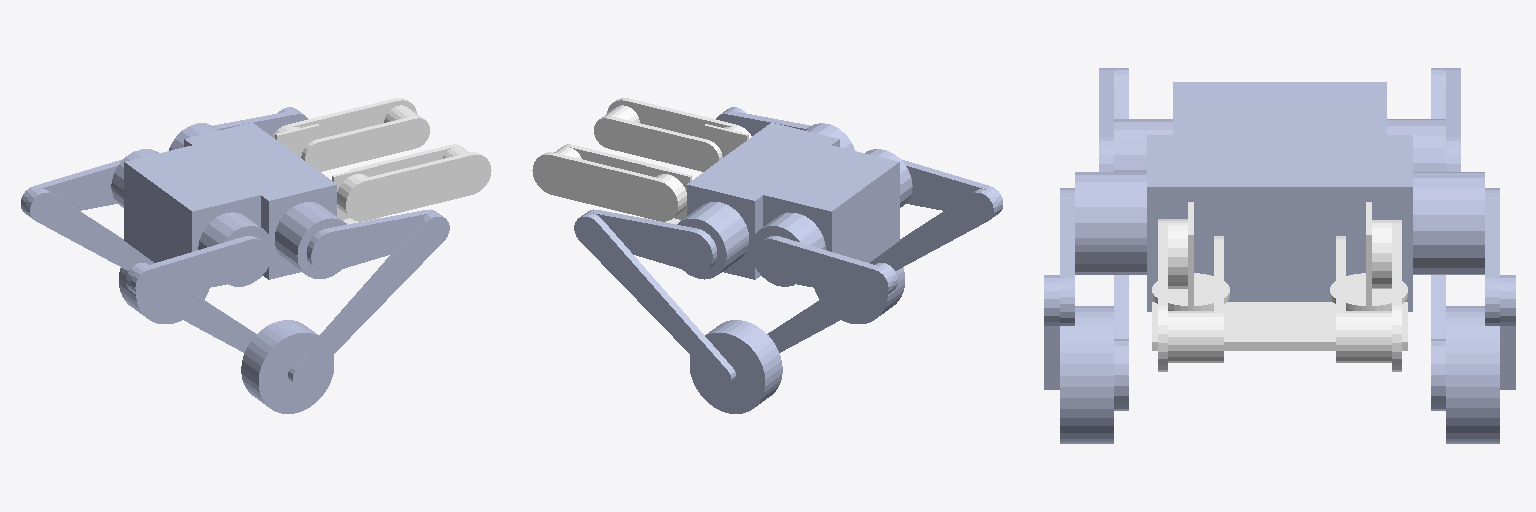
--- What the picture shows (computed from the rendered views, not written in the file) ---
Views: 3 orthographic renders of the robot side by side, from view 1: azimuth 30°, elevation 25°; view 2: azimuth 150°, elevation 25°; view 3: azimuth 270°, elevation 25°.
Robot: Manipulator_Vlink — 20 links, 19 joints (18 continuous, 1 fixed); root link base_link; default pose: all joints at 0.
Links seen in each view (by area): view 1: base_link, r1, thigh2leg_rf, leg2wheel_rf, hip2thigh_rb, l2, hip2thigh_rf, thigh2leg_lb, thigh2leg_rb, hip2thigh_lb, l1, r2 (+3 smaller); view 2: base_link, l1, thigh2leg_lf, hip2thigh_lb, leg2wheel_lf, r2, hip2thigh_lf, thigh2leg_rb, thigh2leg_lb, hip2thigh_rb, r1, l2 (+4 smaller); view 3: base_link, leg2wheel_rf, armbase, leg2wheel_lf, r2, l2, r1, l1, thigh2leg_lb, thigh2leg_rb, hip2thigh_lf, hip2thigh_rf (+7 smaller).
Link boxes in pixels (x1,y1,x2,y2): base_link: (111,123,346,286); r1: (337,152,491,221); thigh2leg_rf: (288,213,449,385); leg2wheel_rf: (241,320,333,413); hip2thigh_rb: (131,236,268,298); l2: (301,105,429,171); hip2thigh_rf: (307,209,438,272); thigh2leg_lb: (25,189,196,293); thigh2leg_rb: (126,263,256,352); hip2thigh_lb: (21,159,122,214); l1: (272,98,416,138); r2: (350,144,469,174); base_link: (677,123,912,286); l1: (532,152,686,221); thigh2leg_lf: (574,213,735,385); hip2thigh_lb: (755,236,892,298); leg2wheel_lf: (690,320,782,413); r2: (594,105,722,171); hip2thigh_lf: (585,209,716,272); thigh2leg_rb: (827,189,998,293); thigh2leg_lb: (767,263,897,352); hip2thigh_rb: (901,159,1002,214); r1: (607,98,751,138); l2: (554,144,673,174); base_link: (1075,82,1484,311); leg2wheel_rf: (1060,306,1113,443); armbase: (1152,302,1407,350); leg2wheel_lf: (1446,306,1499,443); r2: (1168,236,1223,362); l2: (1336,236,1391,362); r1: (1158,219,1187,371); l1: (1372,220,1401,371); thigh2leg_lb: (1431,68,1445,410); thigh2leg_rb: (1114,68,1128,410); hip2thigh_lf: (1485,188,1499,325); hip2thigh_rf: (1060,188,1074,325).
Bounding box of the posed robot: 0.5218 × 0.36 × 0.2553 m (x, y, z).
Meshes: 20 distinct files referenced, 20 mesh visuals loaded (20 binary STL).

The robot description file, URDF, robot "Manipulator_Vlink":
<?xml version="1.0" encoding="utf-8"?>
<!-- This URDF was automatically created by SolidWorks to URDF Exporter! Originally created by Stephen Brawner ([email redacted]) 
     Commit Version: 1.6.0-1-g15f4949  Build Version: 1.6.7594.29634
     For more information, please see http://wiki.ros.org/sw_urdf_exporter -->
<robot
  name="Manipulator_Vlink">
  <link
    name="base_link">
    <inertial>
      <origin
        xyz="5.81517935860494E-18 3.64890254428675E-18 -2.18069225947685E-18"
        rpy="0 0 0" />
      <mass
        value="4.563502045004" />
      <inertia
        ixx="0.0280984473320404"
        ixy="7.96797717061421E-17"
        ixz="1.04038741340493E-20"
        iyy="0.0169477927066625"
        iyz="1.08880015646914E-18"
        izz="0.0376783082336192" />
    </inertial>
    <visual>
      <origin
        xyz="0 0 0"
        rpy="0 0 0" />
      <geometry>
        <mesh
          filename="package://Manipulator_Vlink/meshes/base_link.STL" />
      </geometry>
      <material
        name="">
        <color
          rgba="0.792156862745098 0.819607843137255 0.933333333333333 1" />
      </material>
    </visual>
    <collision>
      <origin
        xyz="0 0 0"
        rpy="0 0 0" />
      <geometry>
        <mesh
          filename="package://Manipulator_Vlink/meshes/base_link.STL" />
      </geometry>
    </collision>
  </link>
  <link
    name="hip2thigh_lf">
    <inertial>
      <origin
        xyz="6.24976908737392E-18 -0.0614074661588189 -0.00575000000000156"
        rpy="0 0 0" />
      <mass
        value="0.0599999613849593" />
      <inertia
        ixx="0.000155906508351339"
        ixy="2.94476214864048E-21"
        ixz="-9.35046804636312E-21"
        iyy="1.13512134874171E-05"
        iyz="-7.895302478684E-19"
        izz="0.000165935222689896" />
    </inertial>
    <visual>
      <origin
        xyz="0 0 0"
        rpy="0 0 0" />
      <geometry>
        <mesh
          filename="package://Manipulator_Vlink/meshes/hip2thigh_lf.STL" />
      </geometry>
      <material
        name="">
        <color
          rgba="0.792156862745098 0.819607843137255 0.933333333333333 1" />
      </material>
    </visual>
    <collision>
      <origin
        xyz="0 0 0"
        rpy="0 0 0" />
      <geometry>
        <mesh
          filename="package://Manipulator_Vlink/meshes/hip2thigh_lf.STL" />
      </geometry>
    </collision>
  </link>
  <joint
    name="hip_lf"
    type="continuous">
    <origin
      xyz="0.0424247110394242 0.156999999999999 0"
      rpy="1.5707963267949 -1.5707963267949 0" />
    <parent
      link="base_link" />
    <child
      link="hip2thigh_lf" />
    <axis
      xyz="0 0 1" />
  </joint>
  <link
    name="thigh2leg_lf">
    <inertial>
      <origin
        xyz="0 -0.10564758516642 -0.00575000000000064"
        rpy="0 0 0" />
      <mass
        value="0.0763000411167859" />
      <inertia
        ixx="0.000437218386664755"
        ixy="1.6940658945086E-21"
        ixz="1.95072209959967E-20"
        iyy="7.44363321133753E-06"
        iyz="1.46010727006436E-18"
        izz="0.000442980239803143" />
    </inertial>
    <visual>
      <origin
        xyz="0 0 0"
        rpy="0 0 0" />
      <geometry>
        <mesh
          filename="package://Manipulator_Vlink/meshes/thigh2leg_lf.STL" />
      </geometry>
      <material
        name="">
        <color
          rgba="0.792156862745098 0.819607843137255 0.933333333333333 1" />
      </material>
    </visual>
    <collision>
      <origin
        xyz="0 0 0"
        rpy="0 0 0" />
      <geometry>
        <mesh
          filename="package://Manipulator_Vlink/meshes/thigh2leg_lf.STL" />
      </geometry>
    </collision>
  </link>
  <joint
    name="knee_lf"
    type="continuous">
    <origin
      xyz="0 -0.14 -0.011500000000001"
      rpy="0 0 -2.46746214692248" />
    <parent
      link="hip2thigh_lf" />
    <child
      link="thigh2leg_lf" />
    <axis
      xyz="0 0 1" />
  </joint>
  <link
    name="leg2wheel_lf">
    <inertial>
      <origin
        xyz="6.41847686111419E-17 -8.32667268468867E-17 0.0207499999999986"
        rpy="0 0 0" />
      <mass
        value="0.521949966745835" />
      <inertia
        ixx="0.000441450058332931"
        ixy="-1.6940658945086E-21"
        ixz="2.07466425242616E-18"
        iyy="0.000441450058332931"
        iyz="-3.38231691806901E-20"
        izz="0.000733078728294525" />
    </inertial>
    <visual>
      <origin
        xyz="0 0 0"
        rpy="0 0 0" />
      <geometry>
        <mesh
          filename="package://Manipulator_Vlink/meshes/leg2wheel_lf.STL" />
      </geometry>
      <material
        name="">
        <color
          rgba="0.792156862745098 0.819607843137255 0.933333333333333 1" />
      </material>
    </visual>
    <collision>
      <origin
        xyz="0 0 0"
        rpy="0 0 0" />
      <geometry>
        <mesh
          filename="package://Manipulator_Vlink/meshes/leg2wheel_lf.STL" />
      </geometry>
    </collision>
  </link>
  <joint
    name="foot_lf"
    type="continuous">
    <origin
      xyz="0 -0.24 0"
      rpy="0 0 0.827377338905804" />
    <parent
      link="thigh2leg_lf" />
    <child
      link="leg2wheel_lf" />
    <axis
      xyz="0 0 1" />
  </joint>
  <link
    name="hip2thigh_lb">
    <inertial>
      <origin
        xyz="-2.22041654777271E-18 -0.0614074661588189 -0.0057500000000007"
        rpy="0 0 0" />
      <mass
        value="0.0539995474696858" />
      <inertia
        ixx="0.000140314771946862"
        ixy="-7.3868622871195E-21"
        ixz="6.14097015851312E-21"
        iyy="1.02160131007346E-05"
        iyz="6.95482200694126E-19"
        izz="0.000149340545022119" />
    </inertial>
    <visual>
      <origin
        xyz="0 0 0"
        rpy="0 0 0" />
      <geometry>
        <mesh
          filename="package://Manipulator_Vlink/meshes/hip2thigh_lb.STL" />
      </geometry>
      <material
        name="">
        <color
          rgba="0.792156862745098 0.819607843137255 0.933333333333333 1" />
      </material>
    </visual>
    <collision>
      <origin
        xyz="0 0 0"
        rpy="0 0 0" />
      <geometry>
        <mesh
          filename="package://Manipulator_Vlink/meshes/hip2thigh_lb.STL" />
      </geometry>
    </collision>
  </link>
  <joint
    name="hip_lb"
    type="continuous">
    <origin
      xyz="-0.0525752889605756 0.126999999999999 0"
      rpy="1.5707963267949 1.5707963267949 0" />
    <parent
      link="base_link" />
    <child
      link="hip2thigh_lb" />
    <axis
      xyz="0 0 1" />
  </joint>
  <link
    name="thigh2leg_lb">
    <inertial>
      <origin
        xyz="2.77555756156289E-17 -0.126725289376484 0.00574999999999845"
        rpy="0 0 0" />
      <mass
        value="0.0750000161747868" />
      <inertia
        ixx="0.000553987900915235"
        ixy="-1.0249098661777E-19"
        ixz="1.70805329904007E-20"
        iyy="9.43756802822458E-06"
        iyz="-3.3007468040004E-18"
        izz="0.00056177234358694" />
    </inertial>
    <visual>
      <origin
        xyz="0 0 0"
        rpy="0 0 0" />
      <geometry>
        <mesh
          filename="package://Manipulator_Vlink/meshes/thigh2leg_lb.STL" />
      </geometry>
      <material
        name="">
        <color
          rgba="0.792156862745098 0.819607843137255 0.933333333333333 1" />
      </material>
    </visual>
    <collision>
      <origin
        xyz="0 0 0"
        rpy="0 0 0" />
      <geometry>
        <mesh
          filename="package://Manipulator_Vlink/meshes/thigh2leg_lb.STL" />
      </geometry>
    </collision>
  </link>
  <joint
    name="knee_lb"
    type="continuous">
    <origin
      xyz="0 -0.14 0"
      rpy="0 0 2.46746214692248" />
    <parent
      link="hip2thigh_lb" />
    <child
      link="thigh2leg_lb" />
    <axis
      xyz="0 0 1" />
  </joint>
  <link
    name="leg2wheel_lb">
    <inertial>
      <origin
        xyz="-1.15359111152458E-16 -5.55111512312578E-17 -0.0207500000000007"
        rpy="0 0 0" />
      <mass
        value="0.521949966745835" />
      <inertia
        ixx="0.000441450058332931"
        ixy="-1.6940658945086E-21"
        ixz="2.07466425242616E-18"
        iyy="0.000441450058332931"
        iyz="-3.38231691806901E-20"
        izz="0.000733078728294525" />
    </inertial>
    <visual>
      <origin
        xyz="0 0 0"
        rpy="0 0 0" />
      <geometry>
        <mesh
          filename="package://Manipulator_Vlink/meshes/leg2wheel_lb.STL" />
      </geometry>
      <material
        name="">
        <color
          rgba="0.792156862745098 0.819607843137255 0.933333333333333 1" />
      </material>
    </visual>
    <collision>
      <origin
        xyz="0 0 0"
        rpy="0 0 0" />
      <geometry>
        <mesh
          filename="package://Manipulator_Vlink/meshes/leg2wheel_lb.STL" />
      </geometry>
    </collision>
  </link>
  <joint
    name="foot_lb"
    type="continuous">
    <origin
      xyz="0 -0.24 0"
      rpy="0 0 -0.965954301349358" />
    <parent
      link="thigh2leg_lb" />
    <child
      link="leg2wheel_lb" />
    <axis
      xyz="0 0 1" />
  </joint>
  <link
    name="hip2thigh_rf">
    <inertial>
      <origin
        xyz="3.75999866151112E-18 -0.061407466158819 0.00575000000000089"
        rpy="0 0 0" />
      <mass
        value="0.0599999613849593" />
      <inertia
        ixx="0.000155906508351339"
        ixy="9.70283065385988E-21"
        ixz="3.7357474179404E-24"
        iyy="1.13512134874171E-05"
        iyz="-1.08504780314569E-18"
        izz="0.000165935222689896" />
    </inertial>
    <visual>
      <origin
        xyz="0 0 0"
        rpy="0 0 0" />
      <geometry>
        <mesh
          filename="package://Manipulator_Vlink/meshes/hip2thigh_rf.STL" />
      </geometry>
      <material
        name="">
        <color
          rgba="0.792156862745098 0.819607843137255 0.933333333333333 1" />
      </material>
    </visual>
    <collision>
      <origin
        xyz="0 0 0"
        rpy="0 0 0" />
      <geometry>
        <mesh
          filename="package://Manipulator_Vlink/meshes/hip2thigh_rf.STL" />
      </geometry>
    </collision>
  </link>
  <joint
    name="hip_rf"
    type="continuous">
    <origin
      xyz="0.0424247110394264 -0.156999999999998 0"
      rpy="1.5707963267949 -1.5707963267949 0" />
    <parent
      link="base_link" />
    <child
      link="hip2thigh_rf" />
    <axis
      xyz="0 0 1" />
  </joint>
  <link
    name="thigh2leg_rf">
    <inertial>
      <origin
        xyz="2.77555756156289E-17 -0.10564758516642 0.00575000000000223"
        rpy="0 0 0" />
      <mass
        value="0.0763000411167858" />
      <inertia
        ixx="0.000437218386664754"
        ixy="-5.84452733605467E-20"
        ixz="2.47571227334978E-20"
        iyy="7.44363321133752E-06"
        iyz="2.37301864809742E-18"
        izz="0.000442980239803142" />
    </inertial>
    <visual>
      <origin
        xyz="0 0 0"
        rpy="0 0 0" />
      <geometry>
        <mesh
          filename="package://Manipulator_Vlink/meshes/thigh2leg_rf.STL" />
      </geometry>
      <material
        name="">
        <color
          rgba="0.792156862745098 0.819607843137255 0.933333333333333 1" />
      </material>
    </visual>
    <collision>
      <origin
        xyz="0 0 0"
        rpy="0 0 0" />
      <geometry>
        <mesh
          filename="package://Manipulator_Vlink/meshes/thigh2leg_rf.STL" />
      </geometry>
    </collision>
  </link>
  <joint
    name="knee_rf"
    type="continuous">
    <origin
      xyz="0 -0.14 0.0114999999999986"
      rpy="0 0 -2.46746214692248" />
    <parent
      link="hip2thigh_rf" />
    <child
      link="thigh2leg_rf" />
    <axis
      xyz="0 0 1" />
  </joint>
  <link
    name="leg2wheel_rf">
    <inertial>
      <origin
        xyz="5.55111512312578E-17 -1.2490009027033E-16 -0.0207499999999983"
        rpy="0 0 0" />
      <mass
        value="0.521949966745835" />
      <inertia
        ixx="0.00044145005833293"
        ixy="-6.7762635780344E-20"
        ixz="-9.00265480038554E-19"
        iyy="0.00044145005833293"
        iyz="1.86202171434693E-18"
        izz="0.000733078728294525" />
    </inertial>
    <visual>
      <origin
        xyz="0 0 0"
        rpy="0 0 0" />
      <geometry>
        <mesh
          filename="package://Manipulator_Vlink/meshes/leg2wheel_rf.STL" />
      </geometry>
      <material
        name="">
        <color
          rgba="0.792156862745098 0.819607843137255 0.933333333333333 1" />
      </material>
    </visual>
    <collision>
      <origin
        xyz="0 0 0"
        rpy="0 0 0" />
      <geometry>
        <mesh
          filename="package://Manipulator_Vlink/meshes/leg2wheel_rf.STL" />
      </geometry>
    </collision>
  </link>
  <joint
    name="foot_rf"
    type="continuous">
    <origin
      xyz="0 -0.24 0"
      rpy="0 0 -1.15869988791543" />
    <parent
      link="thigh2leg_rf" />
    <child
      link="leg2wheel_rf" />
    <axis
      xyz="0 0 1" />
  </joint>
  <link
    name="hip2thigh_rb">
    <inertial>
      <origin
        xyz="2.52390274270345E-18 -0.0614074661588188 0.0057500000000017"
        rpy="0 0 0" />
      <mass
        value="0.0539995474696858" />
      <inertia
        ixx="0.000140314771946862"
        ixy="8.81418992666397E-21"
        ixz="-8.22543354868639E-23"
        iyy="1.02160131007346E-05"
        iyz="9.66936812718221E-19"
        izz="0.000149340545022119" />
    </inertial>
    <visual>
      <origin
        xyz="0 0 0"
        rpy="0 0 0" />
      <geometry>
        <mesh
          filename="package://Manipulator_Vlink/meshes/hip2thigh_rb.STL" />
      </geometry>
      <material
        name="">
        <color
          rgba="0.792156862745098 0.819607843137255 0.933333333333333 1" />
      </material>
    </visual>
    <collision>
      <origin
        xyz="0 0 0"
        rpy="0 0 0" />
      <geometry>
        <mesh
          filename="package://Manipulator_Vlink/meshes/hip2thigh_rb.STL" />
      </geometry>
    </collision>
  </link>
  <joint
    name="hip_rb"
    type="continuous">
    <origin
      xyz="-0.0525752889605738 -0.126999999999999 0"
      rpy="1.5707963267949 1.5707963267949 0" />
    <parent
      link="base_link" />
    <child
      link="hip2thigh_rb" />
    <axis
      xyz="0 0 1" />
  </joint>
  <link
    name="thigh2leg_rb">
    <inertial>
      <origin
        xyz="1.38777878078145E-17 -0.126725289376484 -0.00574999999999939"
        rpy="0 0 0" />
      <mass
        value="0.0750000161747868" />
      <inertia
        ixx="0.000553987900915235"
        ixy="3.76929661528164E-20"
        ixz="3.51746985882905E-20"
        iyy="9.43756802822457E-06"
        iyz="-3.08428735210413E-18"
        izz="0.00056177234358694" />
    </inertial>
    <visual>
      <origin
        xyz="0 0 0"
        rpy="0 0 0" />
      <geometry>
        <mesh
          filename="package://Manipulator_Vlink/meshes/thigh2leg_rb.STL" />
      </geometry>
      <material
        name="">
        <color
          rgba="0.792156862745098 0.819607843137255 0.933333333333333 1" />
      </material>
    </visual>
    <collision>
      <origin
        xyz="0 0 0"
        rpy="0 0 0" />
      <geometry>
        <mesh
          filename="package://Manipulator_Vlink/meshes/thigh2leg_rb.STL" />
      </geometry>
    </collision>
  </link>
  <joint
    name="knee_rb"
    type="continuous">
    <origin
      xyz="0 -0.14 0"
      rpy="0 0 2.46746214692248" />
    <parent
      link="hip2thigh_rb" />
    <child
      link="thigh2leg_rb" />
    <axis
      xyz="0 0 1" />
  </joint>
  <link
    name="leg2wheel_rb">
    <inertial>
      <origin
        xyz="-8.32667268468867E-17 1.2490009027033E-16 0.020750000000001"
        rpy="0 0 0" />
      <mass
        value="0.521949966745835" />
      <inertia
        ixx="0.00044145005833293"
        ixy="-6.7762635780344E-20"
        ixz="-9.00265480038554E-19"
        iyy="0.00044145005833293"
        iyz="1.86202171434693E-18"
        izz="0.000733078728294525" />
    </inertial>
    <visual>
      <origin
        xyz="0 0 0"
        rpy="0 0 0" />
      <geometry>
        <mesh
          filename="package://Manipulator_Vlink/meshes/leg2wheel_rb.STL" />
      </geometry>
      <material
        name="">
        <color
          rgba="0.792156862745098 0.819607843137255 0.933333333333333 1" />
      </material>
    </visual>
    <collision>
      <origin
        xyz="0 0 0"
        rpy="0 0 0" />
      <geometry>
        <mesh
          filename="package://Manipulator_Vlink/meshes/leg2wheel_rb.STL" />
      </geometry>
    </collision>
  </link>
  <joint
    name="foot_rb"
    type="continuous">
    <origin
      xyz="0 -0.24 0"
      rpy="0 0 -2.95203152817059" />
    <parent
      link="thigh2leg_rb" />
    <child
      link="leg2wheel_rb" />
    <axis
      xyz="0 0 1" />
  </joint>
  <link
    name="r0">
    <inertial>
      <origin
        xyz="0 0 -0.015703"
        rpy="0 0 0" />
      <mass
        value="0.032137" />
      <inertia
        ixx="1.7011E-05"
        ixy="3.5016E-20"
        ixz="-1.9417E-21"
        iyy="2.2374E-05"
        iyz="3.8495E-22"
        izz="1.1799E-05" />
    </inertial>
    <visual>
      <origin
        xyz="0 0 0"
        rpy="0 0 0" />
      <geometry>
        <mesh
          filename="package://Manipulator_Vlink/meshes/r0.STL" />
      </geometry>
      <material
        name="">
        <color
          rgba="1 1 1 1" />
      </material>
    </visual>
    <collision>
      <origin
        xyz="0 0 0"
        rpy="0 0 0" />
      <geometry>
        <mesh
          filename="package://Manipulator_Vlink/meshes/r0.STL" />
      </geometry>
    </collision>
  </link>
  <joint
    name="r0"
    type="continuous">
    <origin
      xyz="0.133224711039426 -0.0679999999999988 -0.0135"
      rpy="3.14159265358979 0 0" />
    <parent
      link="base_link" />
    <child
      link="r0" />
    <axis
      xyz="0 0 -1" />
  </joint>
  <link
    name="r1">
    <inertial>
      <origin
        xyz="0.053294 0.0073283 0"
        rpy="0 0 0" />
      <mass
        value="0.242" />
      <inertia
        ixx="2.796E-05"
        ixy="2.0282E-05"
        ixz="-1.5298E-20"
        iyy="0.00041328"
        iyz="7.5624E-22"
        izz="0.00039365" />
    </inertial>
    <visual>
      <origin
        xyz="0 0 0"
        rpy="0 0 0" />
      <geometry>
        <mesh
          filename="package://Manipulator_Vlink/meshes/r1.STL" />
      </geometry>
      <material
        name="">
        <color
          rgba="1 1 1 1" />
      </material>
    </visual>
    <collision>
      <origin
        xyz="0 0 0"
        rpy="0 0 0" />
      <geometry>
        <mesh
          filename="package://Manipulator_Vlink/meshes/r1.STL" />
      </geometry>
    </collision>
  </link>
  <joint
    name="r1"
    type="continuous">
    <origin
      xyz="0 0.0255 -0.03"
      rpy="3.14159265358979 0 0" />
    <parent
      link="r0" />
    <child
      link="r1" />
    <axis
      xyz="0 1 0" />
  </joint>
  <link
    name="r2">
    <inertial>
      <origin
        xyz="0.037121 0.013604 0"
        rpy="0 0 0" />
      <mass
        value="0.252" />
      <inertia
        ixx="2.669E-05"
        ixy="3.4523E-05"
        ixz="4.1921E-22"
        iyy="0.00024862"
        iyz="-2.6906E-21"
        izz="0.00025306" />
    </inertial>
    <visual>
      <origin
        xyz="0 0 0"
        rpy="0 0 0" />
      <geometry>
        <mesh
          filename="package://Manipulator_Vlink/meshes/r2.STL" />
      </geometry>
      <material
        name="">
        <color
          rgba="1 1 1 1" />
      </material>
    </visual>
    <collision>
      <origin
        xyz="0 0 0"
        rpy="0 0 0" />
      <geometry>
        <mesh
          filename="package://Manipulator_Vlink/meshes/r2.STL" />
      </geometry>
    </collision>
  </link>
  <joint
    name="r2"
    type="continuous">
    <origin
      xyz="0.149999999999999 0.0506800000000011 0"
      rpy="0 0 3.14159265358979" />
    <parent
      link="r1" />
    <child
      link="r2" />
    <axis
      xyz="0 1 0" />
  </joint>
  <link
    name="l0">
    <inertial>
      <origin
        xyz="0 0 -0.0157032224890821"
        rpy="0 0 0" />
      <mass
        value="0.0321371669413124" />
      <inertia
        ixx="1.70114298357478E-05"
        ixy="3.46949388041796E-20"
        ixz="-4.53859709976249E-22"
        iyy="2.237392983736E-05"
        iyz="-2.02793374476733E-22"
        izz="1.17992251230963E-05" />
    </inertial>
    <visual>
      <origin
        xyz="0 0 0"
        rpy="0 0 0" />
      <geometry>
        <mesh
          filename="package://Manipulator_Vlink/meshes/l0.STL" />
      </geometry>
      <material
        name="">
        <color
          rgba="1 1 1 1" />
      </material>
    </visual>
    <collision>
      <origin
        xyz="0 0 0"
        rpy="0 0 0" />
      <geometry>
        <mesh
          filename="package://Manipulator_Vlink/meshes/l0.STL" />
      </geometry>
    </collision>
  </link>
  <joint
    name="l0"
    type="continuous">
    <origin
      xyz="0.133224711039425 0.0680000000000012 -0.0135"
      rpy="-3.14159265358979 0 3.14159265358979" />
    <parent
      link="base_link" />
    <child
      link="l0" />
    <axis
      xyz="0 0 -1" />
  </joint>
  <link
    name="l1">
    <inertial>
      <origin
        xyz="0.053294 0.0073283 6.9389E-18"
        rpy="0 0 0" />
      <mass
        value="0.242" />
      <inertia
        ixx="2.796E-05"
        ixy="2.0282E-05"
        ixz="-5.6835E-20"
        iyy="0.00041328"
        iyz="2.2809E-21"
        izz="0.00039365" />
    </inertial>
    <visual>
      <origin
        xyz="0 0 0"
        rpy="0 0 0" />
      <geometry>
        <mesh
          filename="package://Manipulator_Vlink/meshes/l1.STL" />
      </geometry>
      <material
        name="">
        <color
          rgba="1 1 1 1" />
      </material>
    </visual>
    <collision>
      <origin
        xyz="0 0 0"
        rpy="0 0 0" />
      <geometry>
        <mesh
          filename="package://Manipulator_Vlink/meshes/l1.STL" />
      </geometry>
    </collision>
  </link>
  <joint
    name="l1"
    type="continuous">
    <origin
      xyz="0 0.0255 -0.0300000000000001"
      rpy="0 0 3.14159265358979" />
    <parent
      link="l0" />
    <child
      link="l1" />
    <axis
      xyz="0 1 0" />
  </joint>
  <link
    name="l2">
    <inertial>
      <origin
        xyz="0.037121 0.013604 0"
        rpy="0 0 0" />
      <mass
        value="0.252" />
      <inertia
        ixx="2.669E-05"
        ixy="3.4523E-05"
        ixz="5.4659E-21"
        iyy="0.00024862"
        iyz="-4.2579E-21"
        izz="0.00025306" />
    </inertial>
    <visual>
      <origin
        xyz="0 0 0"
        rpy="0 0 0" />
      <geometry>
        <mesh
          filename="package://Manipulator_Vlink/meshes/l2.STL" />
      </geometry>
      <material
        name="">
        <color
          rgba="1 1 1 1" />
      </material>
    </visual>
    <collision>
      <origin
        xyz="0 0 0"
        rpy="0 0 0" />
      <geometry>
        <mesh
          filename="package://Manipulator_Vlink/meshes/l2.STL" />
      </geometry>
    </collision>
  </link>
  <joint
    name="l2"
    type="continuous">
    <origin
      xyz="0.15 0.0506799999999991 0"
      rpy="0 0 3.14159265358979" />
    <parent
      link="l1" />
    <child
      link="l2" />
    <axis
      xyz="0 1 0" />
  </joint>
  <link
    name="armbase">
    <inertial>
      <origin
        xyz="1.0605E-15 0.010012 0.0027052"
        rpy="0 0 0" />
      <mass
        value="0.384" />
      <inertia
        ixx="7.0477E-05"
        ixy="-3.3653E-20"
        ixz="3.9496E-18"
        iyy="0.00069458"
        iyz="-5.1152E-06"
        izz="0.00065488" />
    </inertial>
    <visual>
      <origin
        xyz="0 0 0"
        rpy="0 0 0" />
      <geometry>
        <mesh
          filename="package://Manipulator_Vlink/meshes/armbase.STL" />
      </geometry>
      <material
        name="">
        <color
          rgba="1 1 1 1" />
      </material>
    </visual>
    <collision>
      <origin
        xyz="0 0 0"
        rpy="0 0 0" />
      <geometry>
        <mesh
          filename="package://Manipulator_Vlink/meshes/armbase.STL" />
      </geometry>
    </collision>
  </link>
  <joint
    name="nonono"
    type="fixed">
    <origin
      xyz="0.125574711039425 0 -0.0525"
      rpy="1.5707963267949 0 1.5707963267949" />
    <parent
      link="base_link" />
    <child
      link="armbase" />
    <axis
      xyz="0 0 0" />
  </joint>
</robot>
